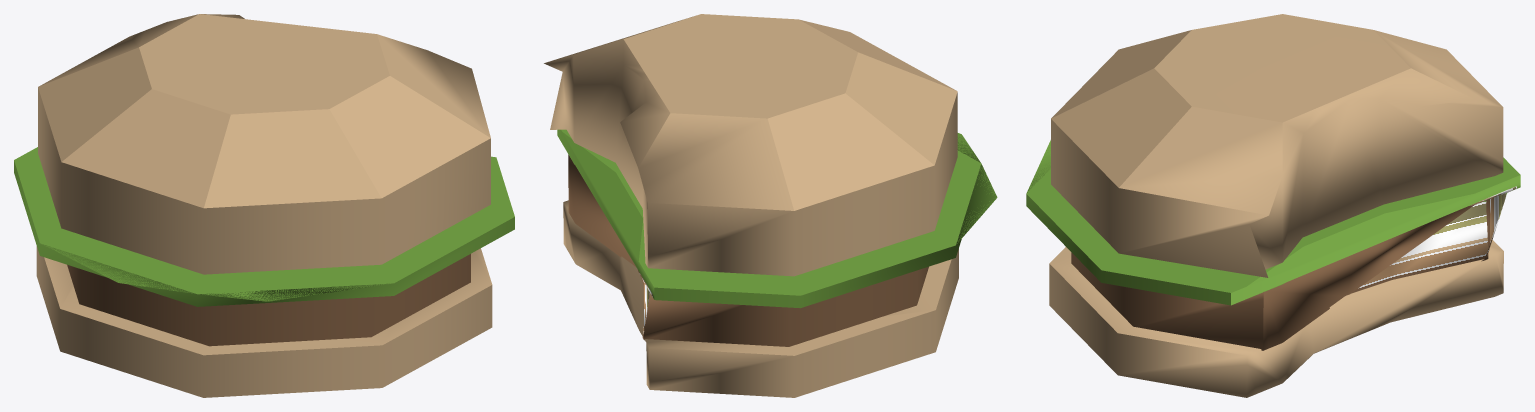
Rendered from SM_burger_junk.fbx.
3 renders of one model, left to right at view 1: azimuth 30°, elevation 25°; view 2: azimuth 150°, elevation 25°; view 3: azimuth 270°, elevation 25°, orthographic.
Visible parts, largest first — view 1: Cylinder024; view 2: Cylinder024; view 3: Cylinder024.
Part boxes in pixels (x1,y1,x2,y2): Cylinder024: [14, 14, 514, 397]; Cylinder024: [544, 14, 997, 397]; Cylinder024: [1026, 14, 1520, 397].
Bounding box in the file's own units: 41.44 × 22.09 × 41.69.
